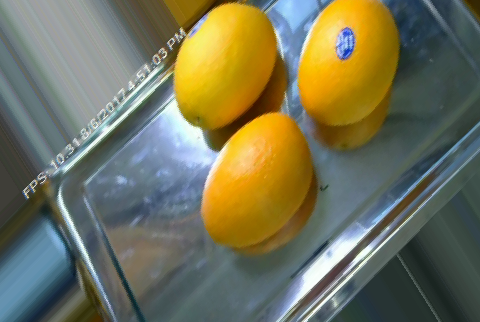Orange: (200, 112, 313, 248), (171, 3, 276, 128), (295, 1, 398, 127)
